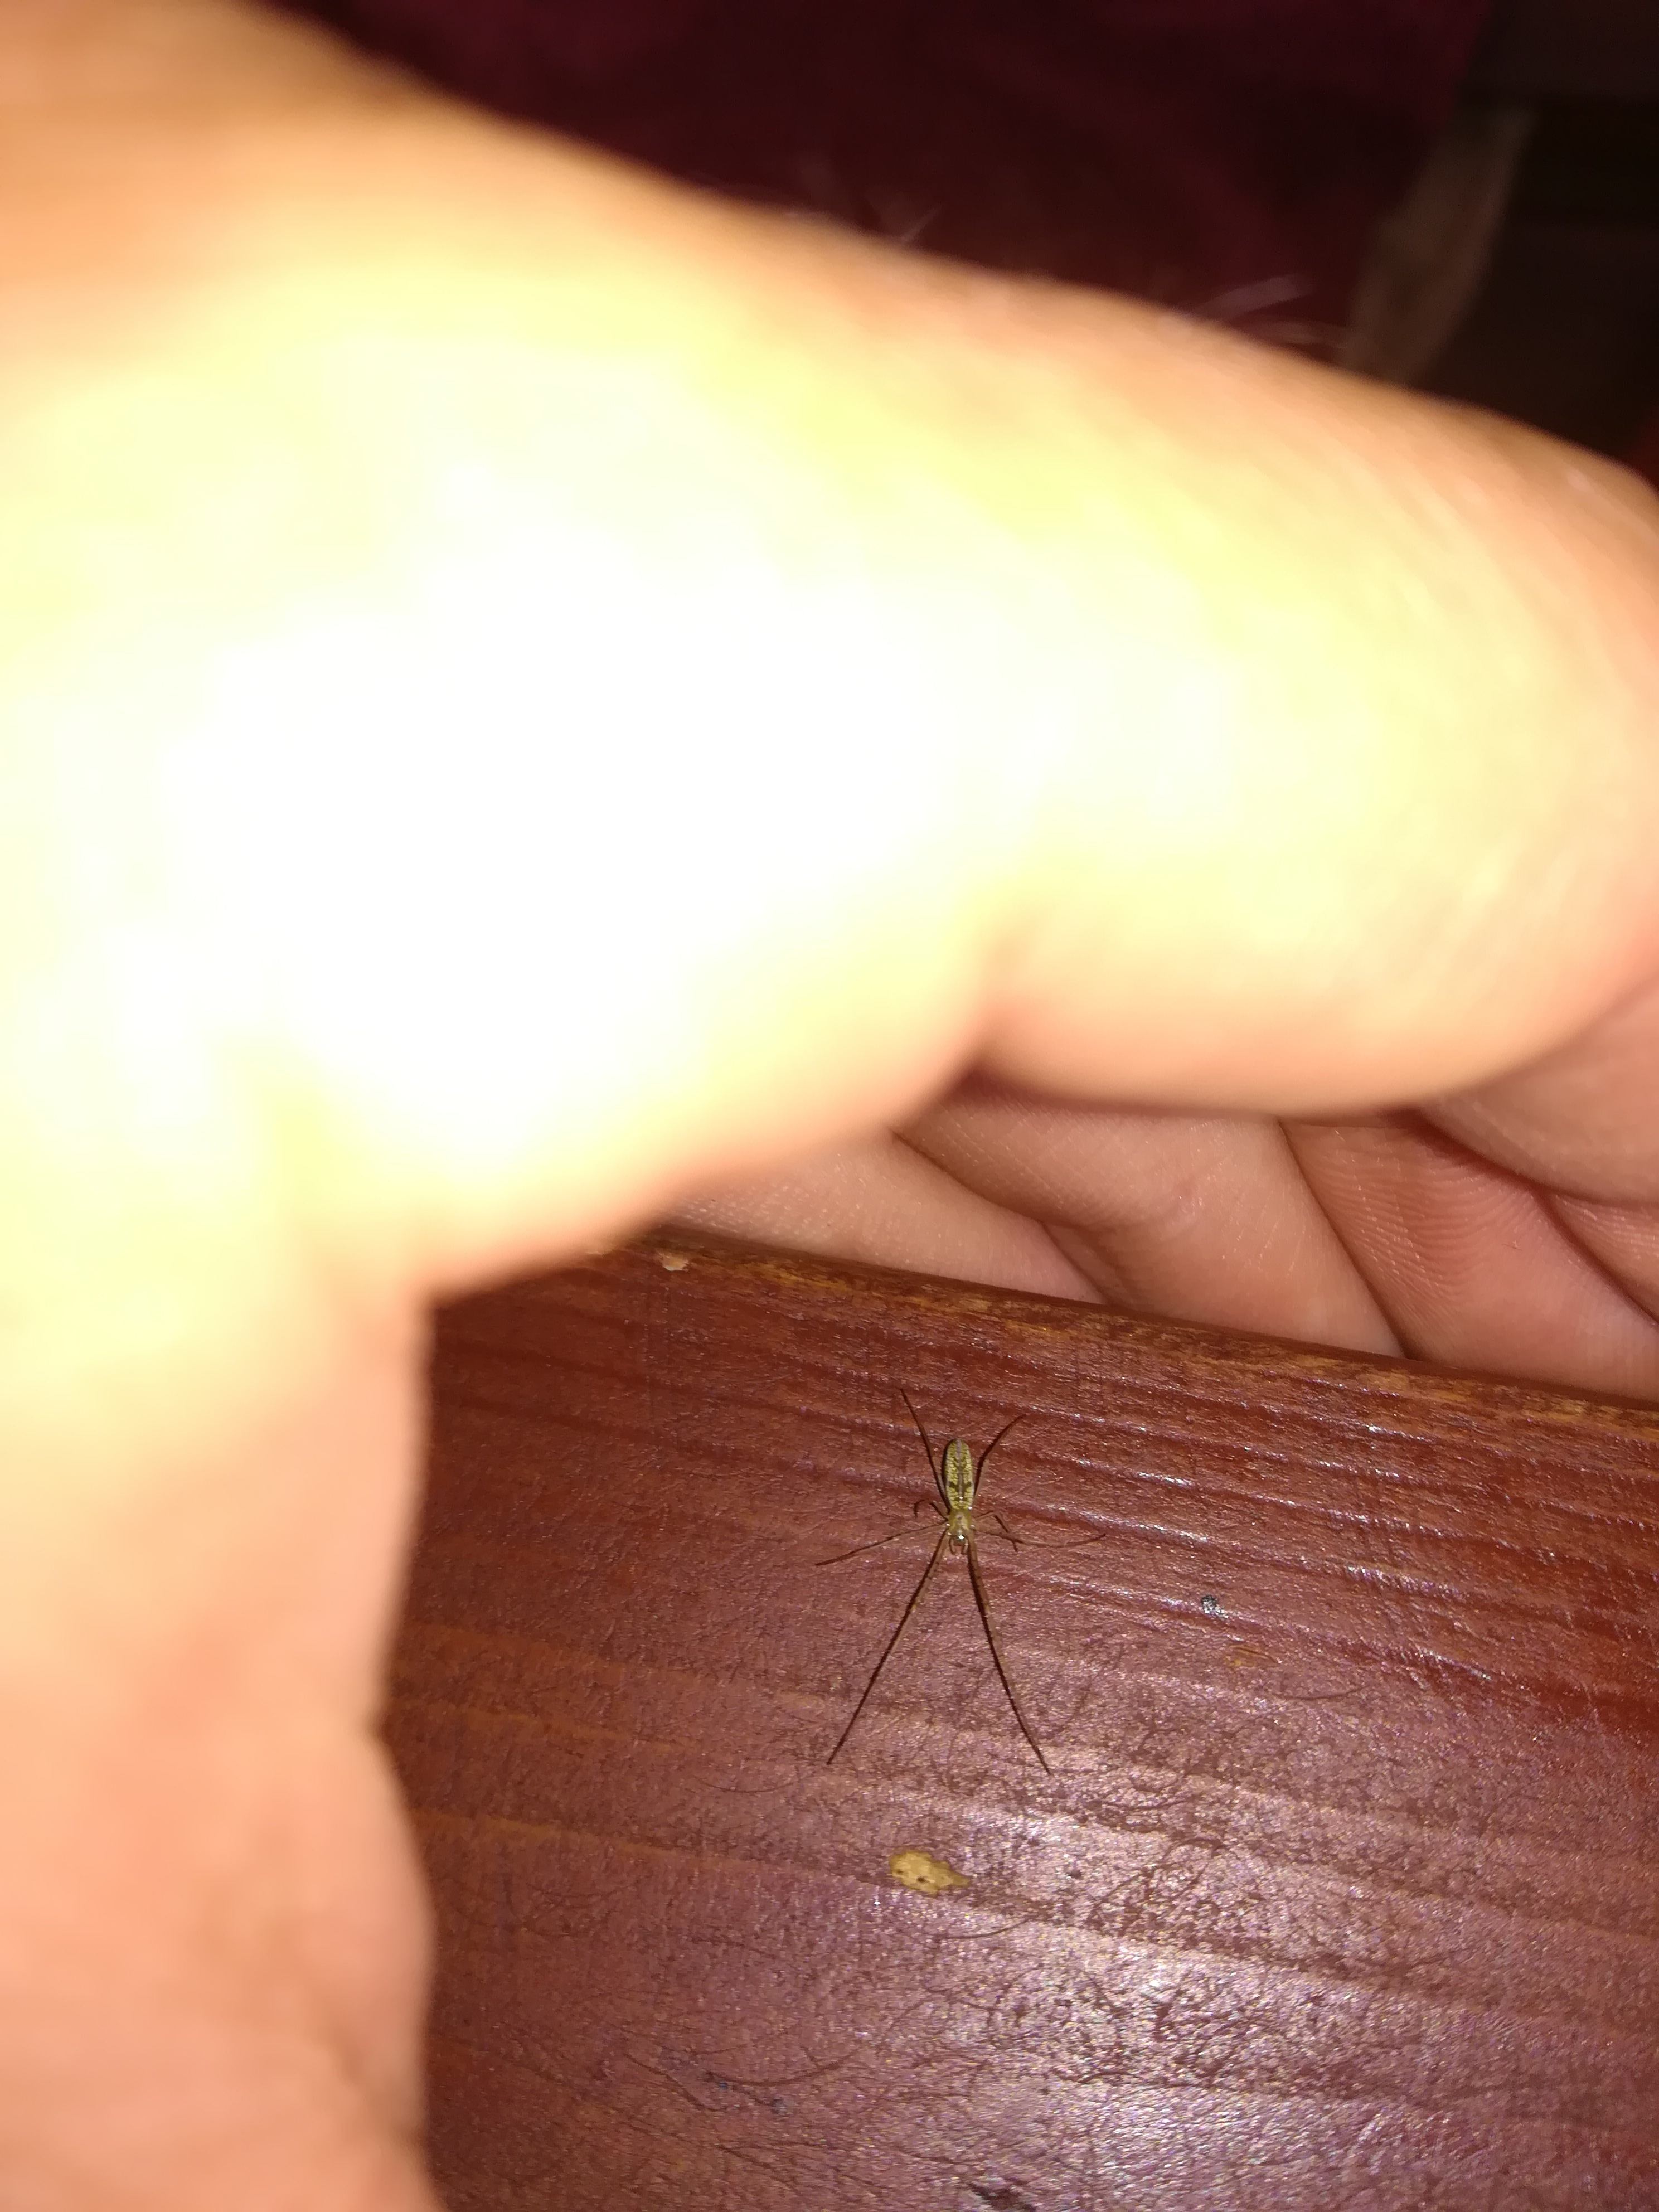spider: (775, 1341, 1133, 1827)
